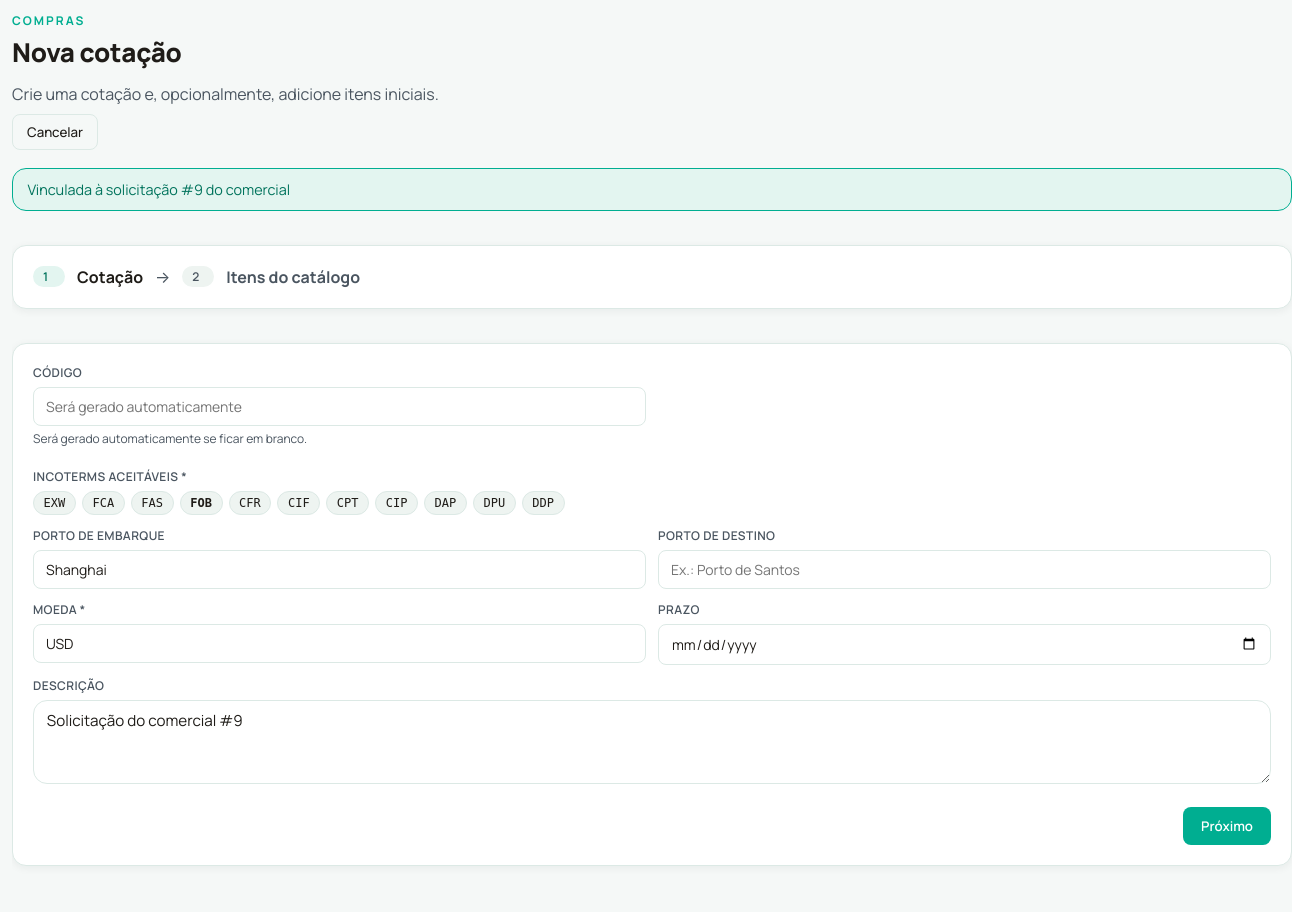
Test case: CotacaoNova a partir de solicitacao de desenvolvimento › item novo JA vinculado ao catalogo: pre-preenche normalmente (marketName do catalogo)
Check: the text "Vinculada à solicitação #9 do comercial" is shown, box [12, 168, 1291, 211]
Click the button "Próximo": {"x": 1227, "y": 826} [1183, 807, 1271, 845]
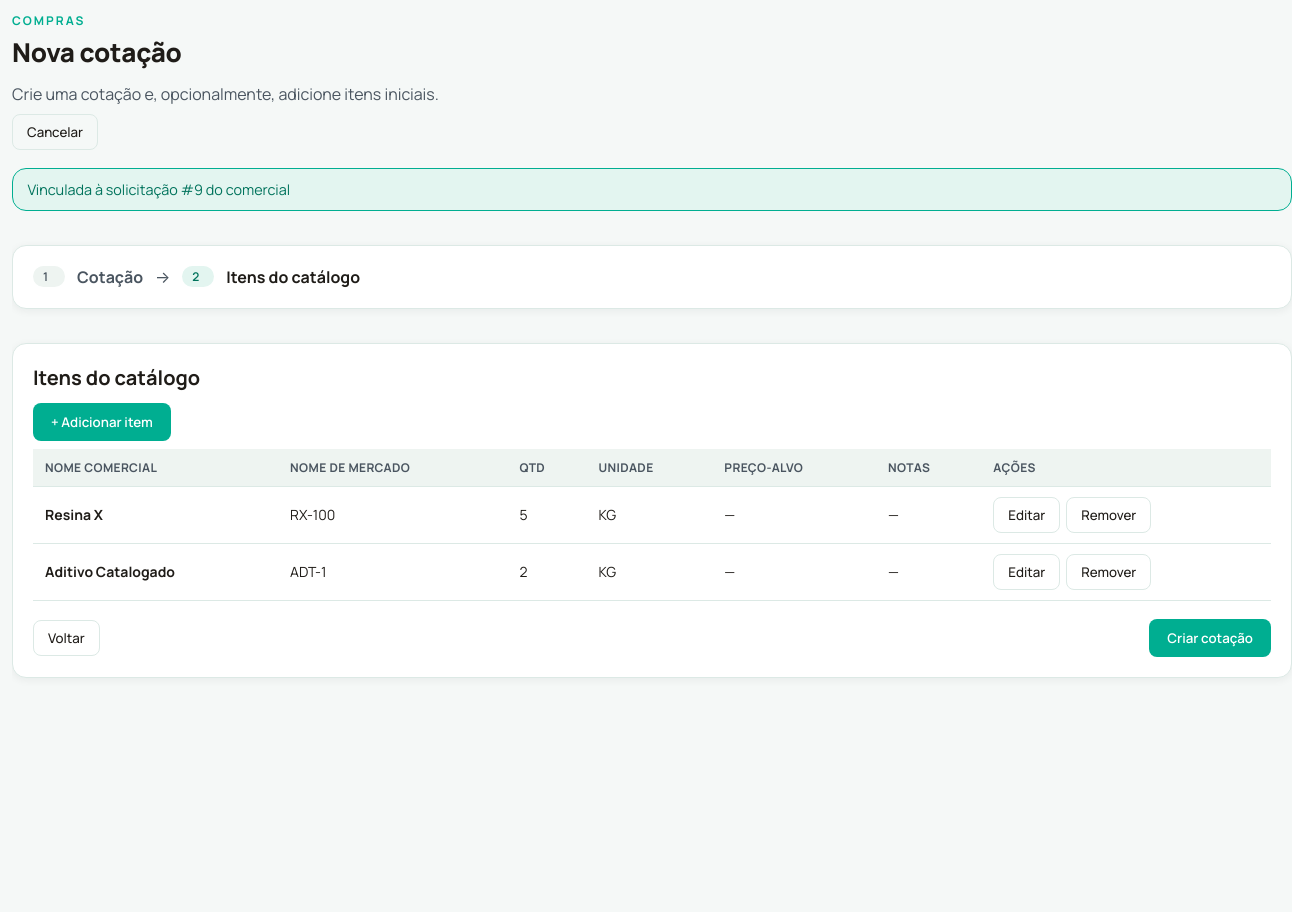
Check: the button "+ Adicionar item" is enabled, box [33, 403, 171, 441]
Check: the text "Resina X" is shown, box [45, 505, 103, 524]
Check: the text "Aditivo Catalogado" is shown, box [45, 562, 175, 581]
